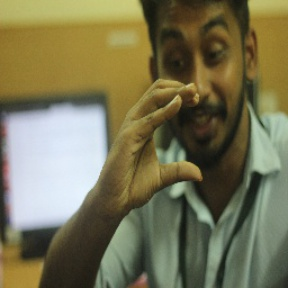C: (110, 78, 212, 193)
